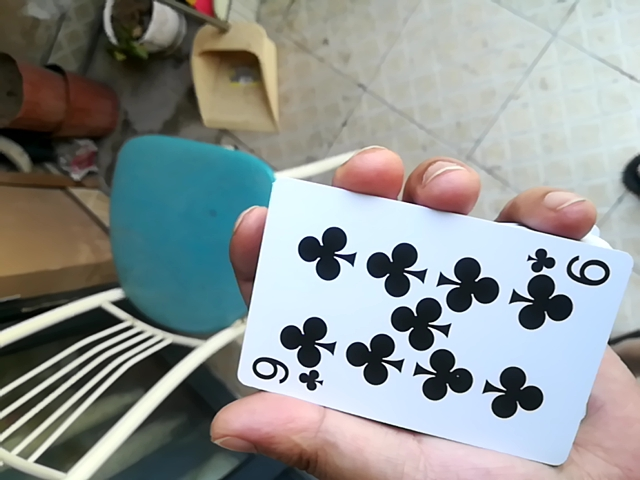mh 9: (217, 178, 634, 458)
